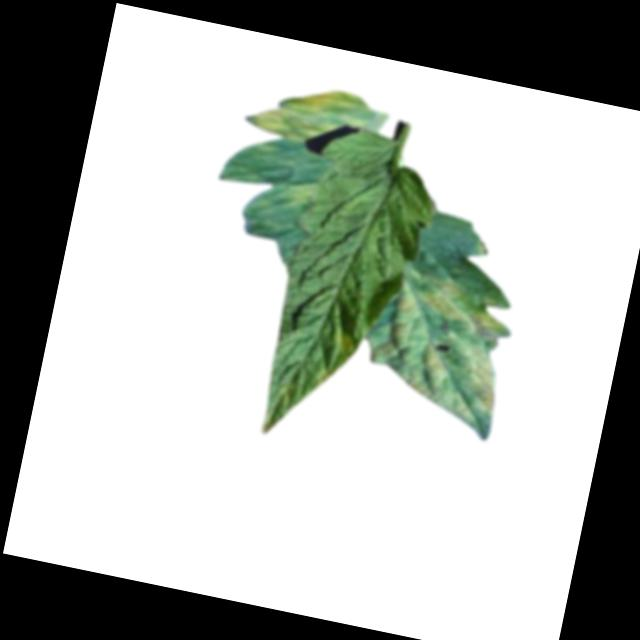Leaf_Mold: (359, 259, 524, 428), (244, 71, 372, 156), (285, 177, 322, 210), (326, 329, 360, 359)
